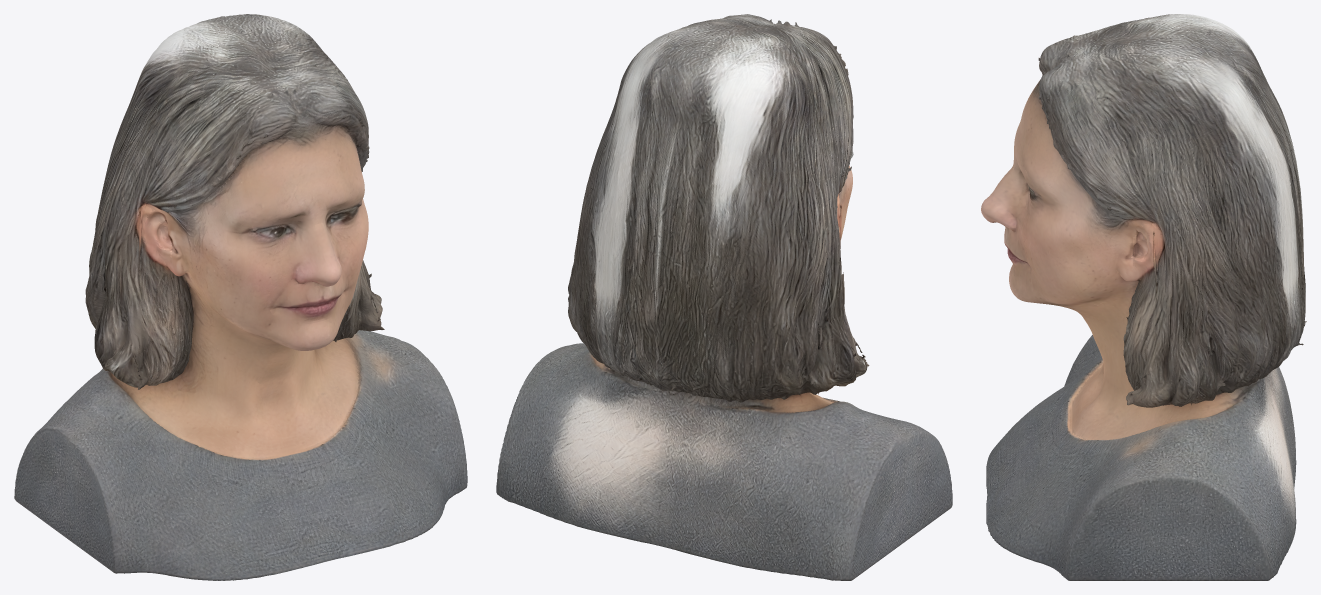
File: rodin_v2_5_minimum_50k_quad_texture_high_shaded.glb
3 views of the same model, side by side, from view 1: azimuth 30°, elevation 25°; view 2: azimuth 150°, elevation 25°; view 3: azimuth 270°, elevation 25° (orthographic).
Parts seen in each view (by area): view 1: model; view 2: model; view 3: model.
Part boxes in pixels (bbox=[...]): model: bbox=[14, 14, 467, 580]; model: bbox=[496, 14, 952, 580]; model: bbox=[981, 14, 1306, 580].
Size of the model in its own units: 1.53 by 1.91 by 1.22.
Materials: 1 (1 with a texture image).
